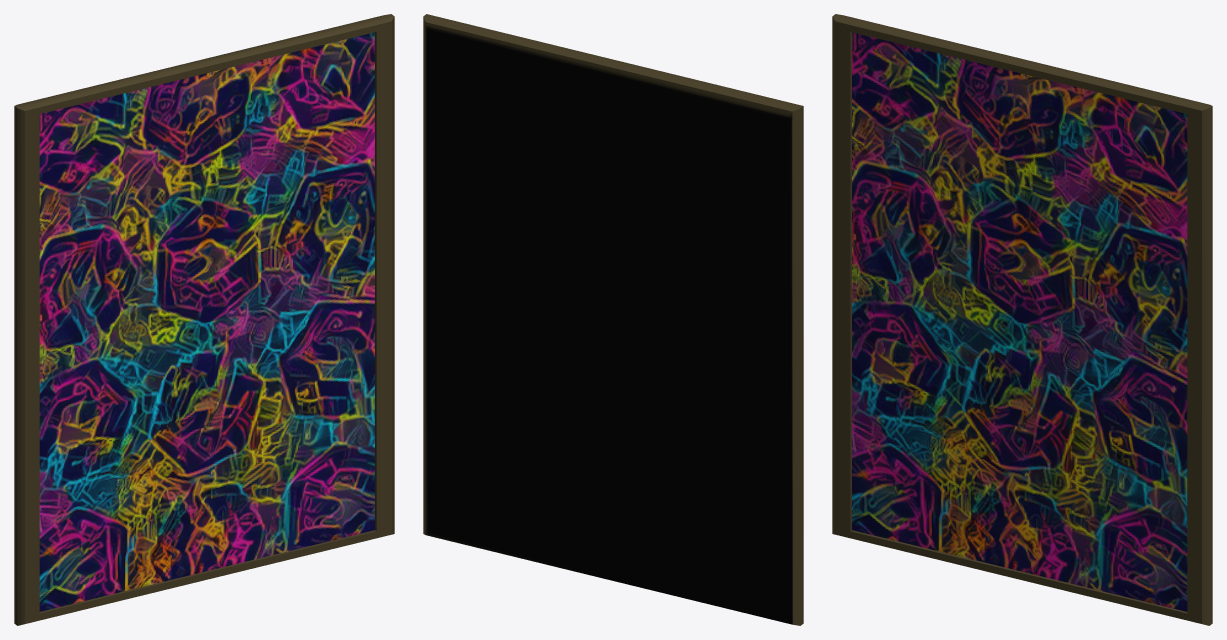
The model's file is Cuadro_Enti.fbx.
The picture shows the model from 3 angles, left to right: view 1: azimuth 30°, elevation 25°; view 2: azimuth 150°, elevation 25°; view 3: azimuth 330°, elevation 25°; orthographic projection.
Parts seen in each view (by area): view 1: Cuadro012; view 2: Cuadro012; view 3: Cuadro012.
Part boxes in pixels (bbox=[...]): Cuadro012: bbox=[14, 14, 394, 625]; Cuadro012: bbox=[423, 14, 803, 625]; Cuadro012: bbox=[832, 14, 1212, 625].
Bounding box in the file's own units: 23.06 × 30.26 × 0.8836.
